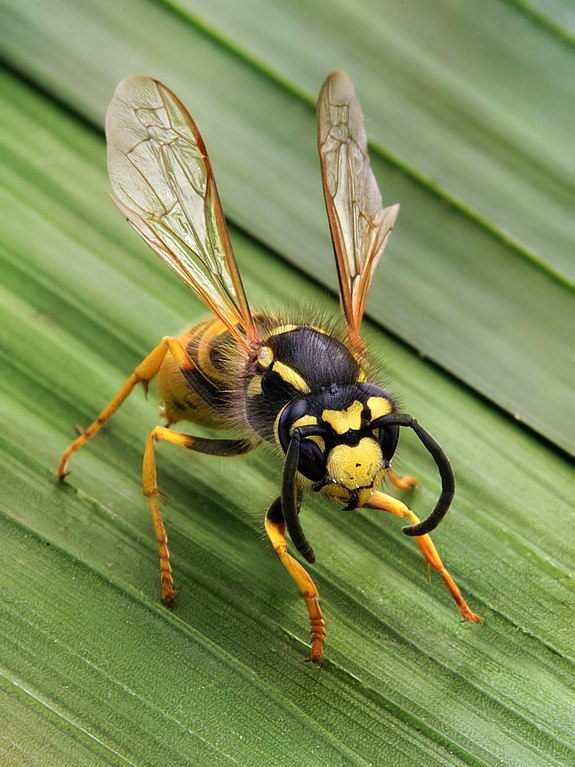chax: (43, 53, 501, 681)
